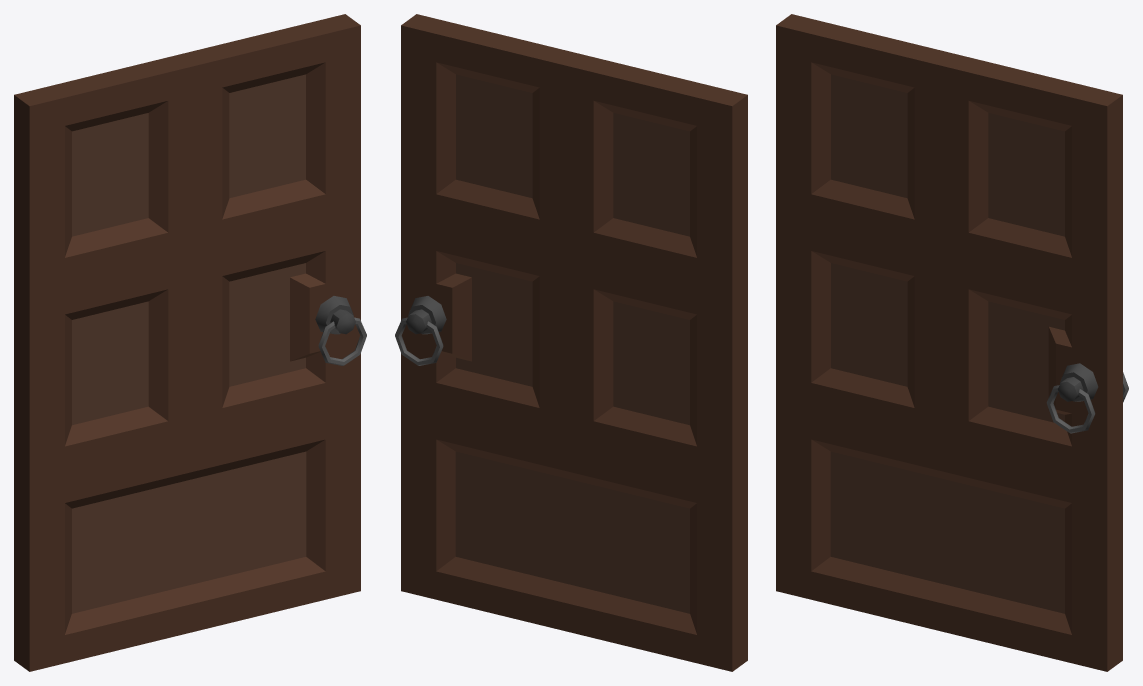
The model's file is SM_Buildings_House_02_Door.fbx.
The picture shows the model from 3 angles, left to right: view 1: azimuth 30°, elevation 25°; view 2: azimuth 150°, elevation 25°; view 3: azimuth 330°, elevation 25°; orthographic projection.
Visible parts, largest first — view 1: SM_Buildings_House_02_Door; view 2: SM_Buildings_House_02_Door; view 3: SM_Buildings_House_02_Door.
Boxes of the visible parts, x1,y1,x2,y2 form: SM_Buildings_House_02_Door: [14, 14, 366, 671]; SM_Buildings_House_02_Door: [395, 14, 747, 671]; SM_Buildings_House_02_Door: [776, 14, 1128, 671].
Size of the model in its own units: 1.23 by 2 by 0.2829.
